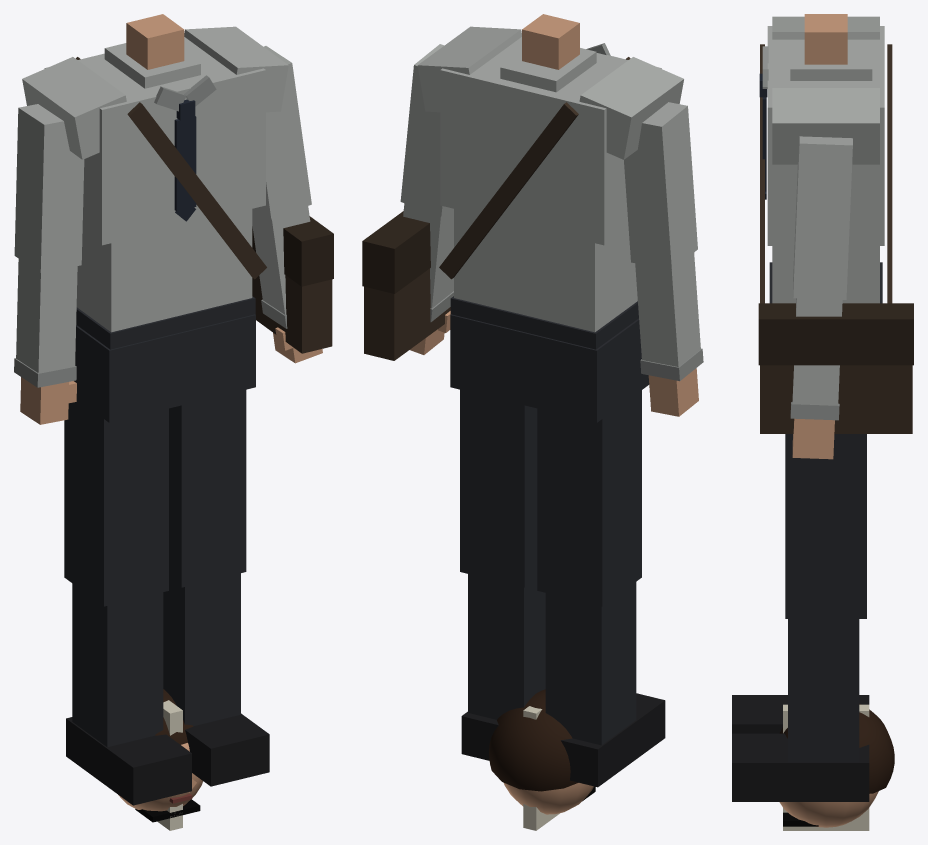
Rendered from passenger_office_standing.fbx.
The picture shows the model from 3 angles, left to right: view 1: azimuth 30°, elevation 25°; view 2: azimuth 150°, elevation 25°; view 3: azimuth 270°, elevation 25°; orthographic projection. The views are drawn at different scales.
Parts seen in each view (by area): view 1: Mesh_19, Mesh_18, Mesh_20, Mesh_23, Body_Skin, Mesh_0, Mesh_21, Mesh_22, Mesh_8, Head_Skin; view 2: Mesh_19, Mesh_18, Mesh_23, Mesh_1, Mesh_20, Body_Skin, Mesh_0, Head_Skin, Mesh_21, Mesh_8; view 3: Mesh_18, Mesh_19, Mesh_23, Mesh_20, Mesh_0, Body_Skin, Mesh_1, Head_Skin, Mesh_21, Mesh_8, Mesh_22.
Boxes of the visible parts, box(x1,y1,x2,y2) form: Mesh_19: box(64, 296, 255, 747); Mesh_18: box(14, 26, 311, 373); Mesh_20: box(66, 713, 269, 805); Mesh_23: box(76, 57, 332, 353); Body_Skin: box(20, 14, 322, 424); Mesh_0: box(252, 216, 333, 286); Mesh_21: box(14, 75, 287, 387); Mesh_22: box(174, 99, 196, 221); Mesh_8: box(157, 700, 182, 830); Head_Skin: box(118, 743, 202, 811); Mesh_19: box(450, 296, 649, 745); Mesh_18: box(400, 26, 700, 366); Mesh_23: box(364, 57, 630, 360); Mesh_1: box(489, 689, 578, 791); Mesh_20: box(461, 693, 665, 787); Body_Skin: box(410, 14, 698, 416); Mesh_0: box(362, 211, 430, 293); Head_Skin: box(504, 783, 593, 814); Mesh_21: box(430, 43, 703, 381); Mesh_8: box(523, 706, 560, 830); Mesh_18: box(767, 16, 884, 405); Mesh_19: box(769, 262, 882, 762); Mesh_23: box(760, 44, 912, 433); Mesh_20: box(732, 695, 869, 801); Mesh_0: box(758, 303, 913, 365); Body_Skin: box(792, 14, 847, 459); Mesh_1: box(779, 703, 894, 793); Head_Skin: box(779, 791, 878, 827); Mesh_21: box(762, 46, 839, 420); Mesh_8: box(783, 704, 869, 830); Mesh_22: box(759, 73, 767, 199).
Size of the model in its own units: 0.6663 by 1.75 by 0.3575.
